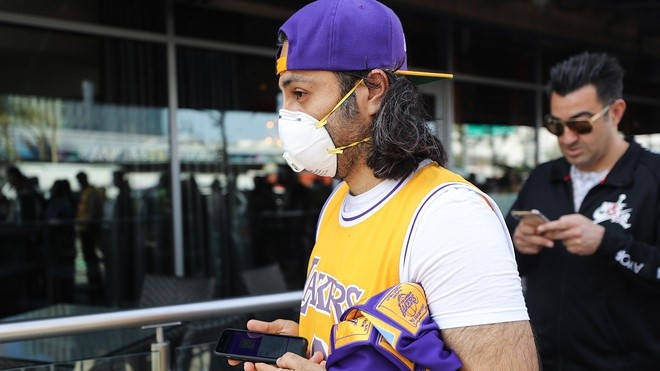face_no_mask: (539, 74, 631, 177)
face_with_mask: (267, 59, 394, 200)
